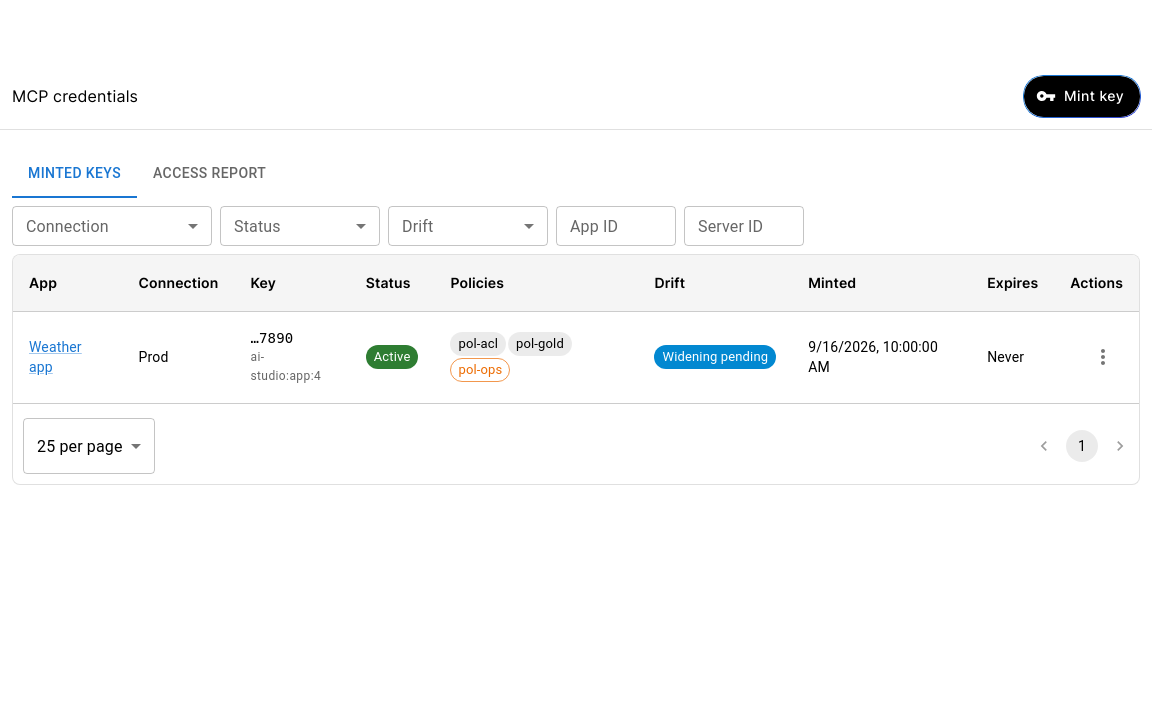
MCPCredentials › lists minted keys with external policies and applies pending drift from the row menu
Expected: the row with test id "credential-cred-1" shows "Weather app", 29,339 -> 82,375
Expected: the row with test id "credential-cred-1" shows "pol-ops", 458,362 -> 502,377
Click the button with test id "row-actions" at (1103, 357), box 1083,337 -> 1123,377
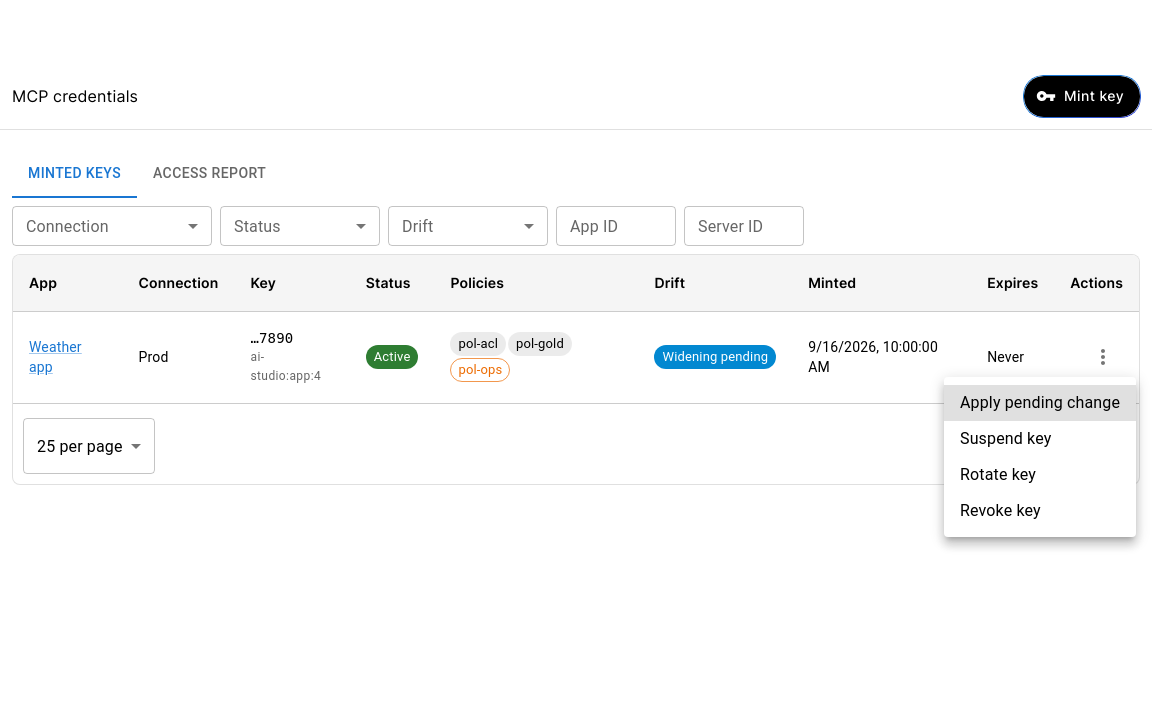
Click the menu item with test id "apply-drift-cred-1" at (1040, 403), box 944,385 -> 1136,421
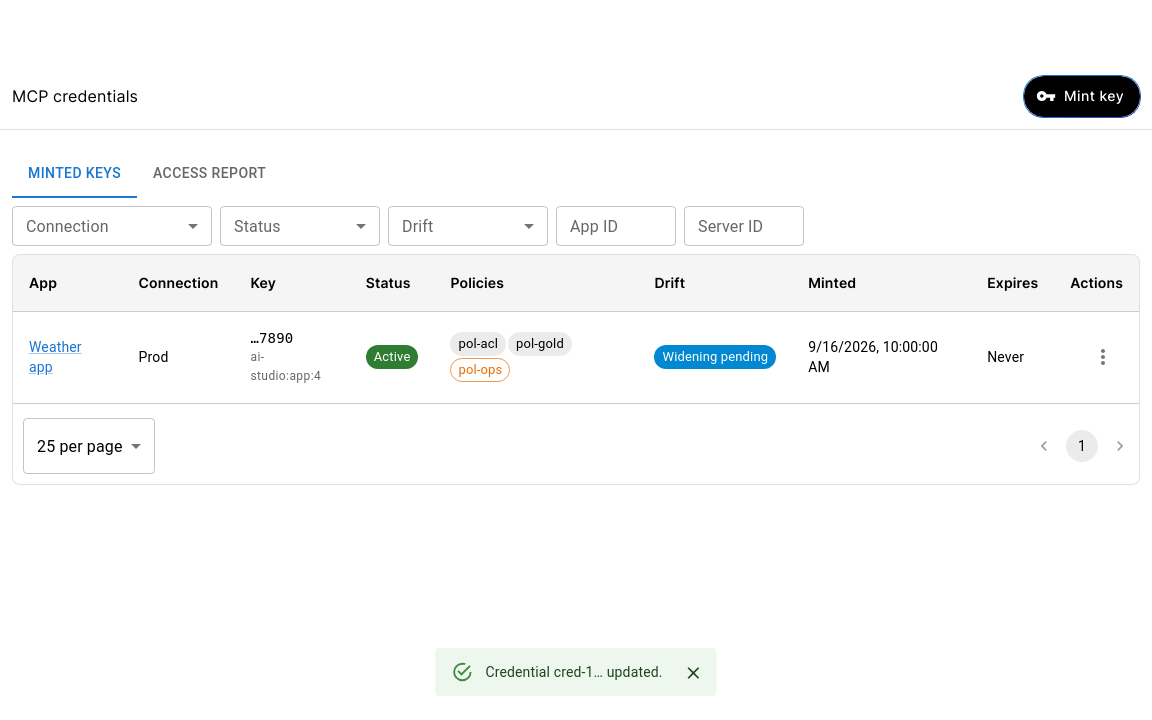
Now the text "Credential cred-1… updated." is shown, box 485,664 -> 663,680
